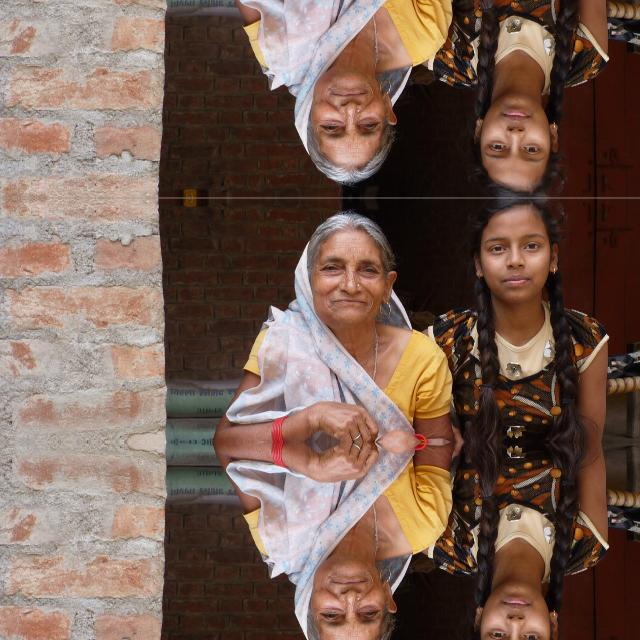person: (235, 204, 449, 442), (440, 198, 622, 440), (235, 442, 449, 640), (235, 0, 449, 192), (440, 0, 622, 197), (440, 444, 622, 640)
